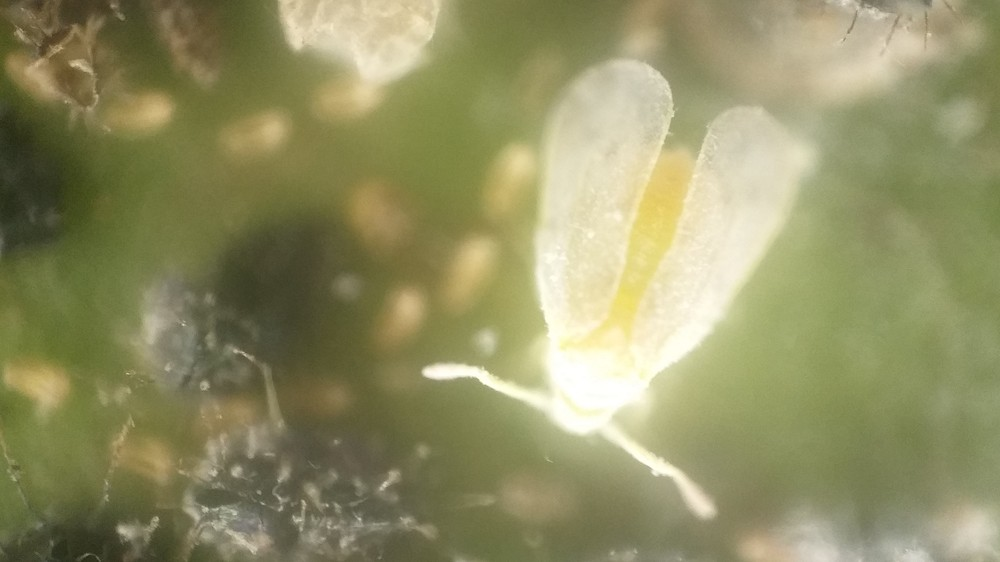Mosca Blanca: (417, 58, 823, 533)
